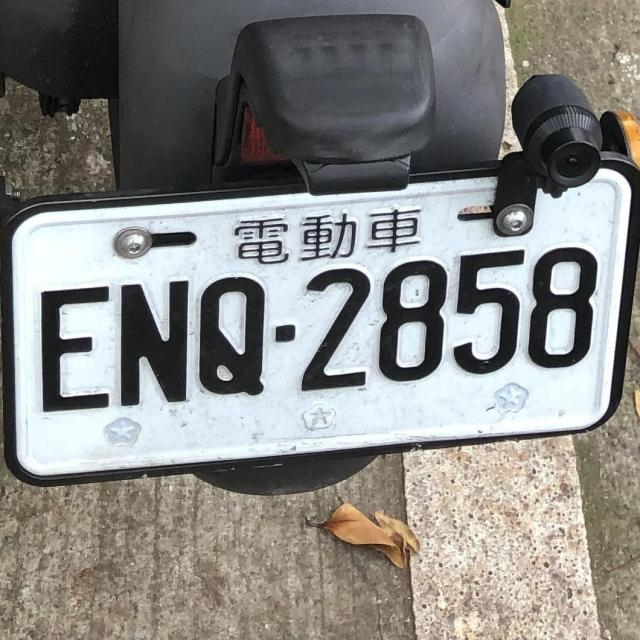W: (4, 156, 639, 490)
